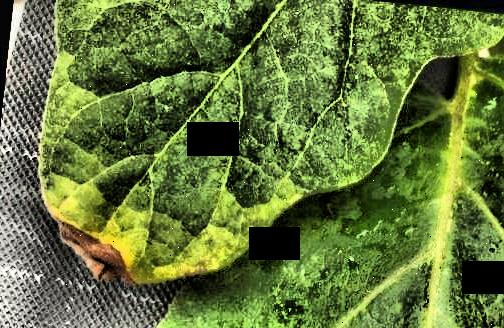Non-critical Stress: (1, 0, 504, 328)
